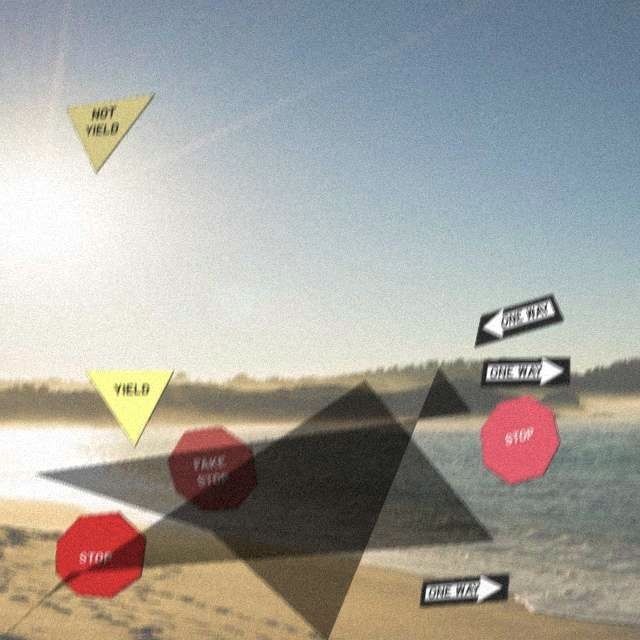FAKE_STOP: (167, 424, 258, 510)
NOT_YIELD: (65, 92, 156, 172)
ONE_WAY_ left: (474, 292, 565, 346)
ONE_WAY_ right: (419, 571, 510, 606), (480, 355, 571, 386)
STOP: (56, 510, 147, 597), (480, 393, 561, 484)
YIELD: (84, 368, 175, 446)
